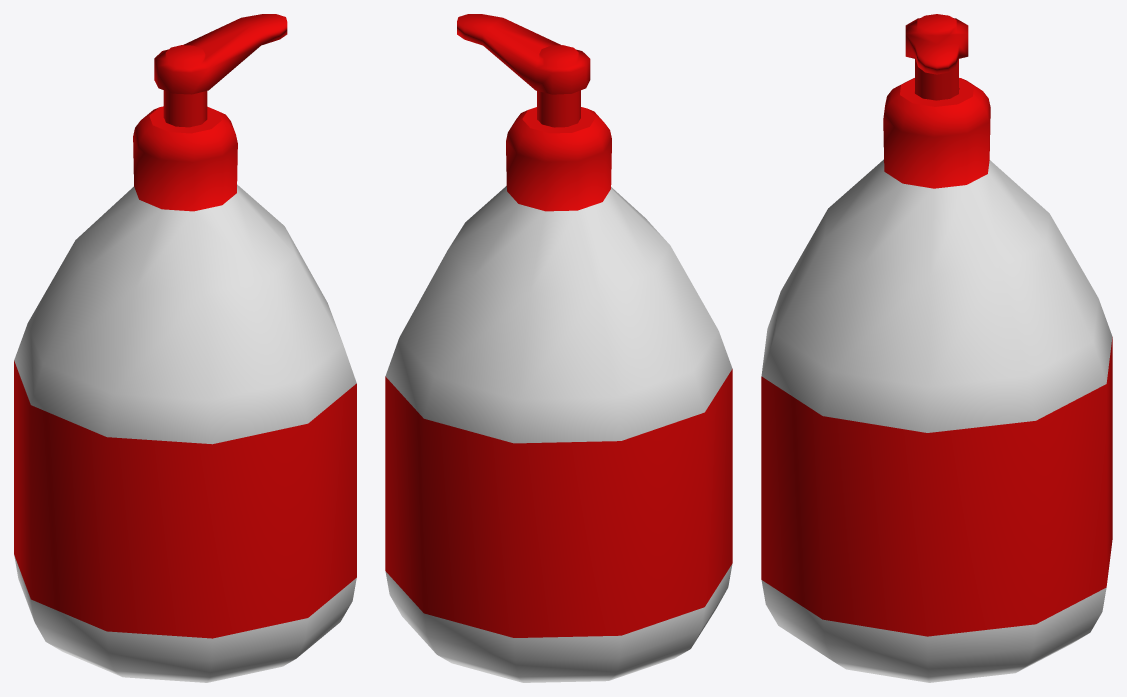
Rendered from GelBottle4.fbx.
3 renders of one model, left to right at view 1: azimuth 30°, elevation 25°; view 2: azimuth 150°, elevation 25°; view 3: azimuth 270°, elevation 25°, orthographic. The views are drawn at different scales.
Parts seen in each view (by area): view 1: polySurface12; view 2: polySurface12; view 3: polySurface12.
Part boxes in pixels (x1=…): polySurface12: x1=14, y1=14, x2=356, y2=682; polySurface12: x1=385, y1=14, x2=732, y2=682; polySurface12: x1=761, y1=14, x2=1112, y2=682.
Bounding box in the file's own units: 12.51 × 23.26 × 12.1.
